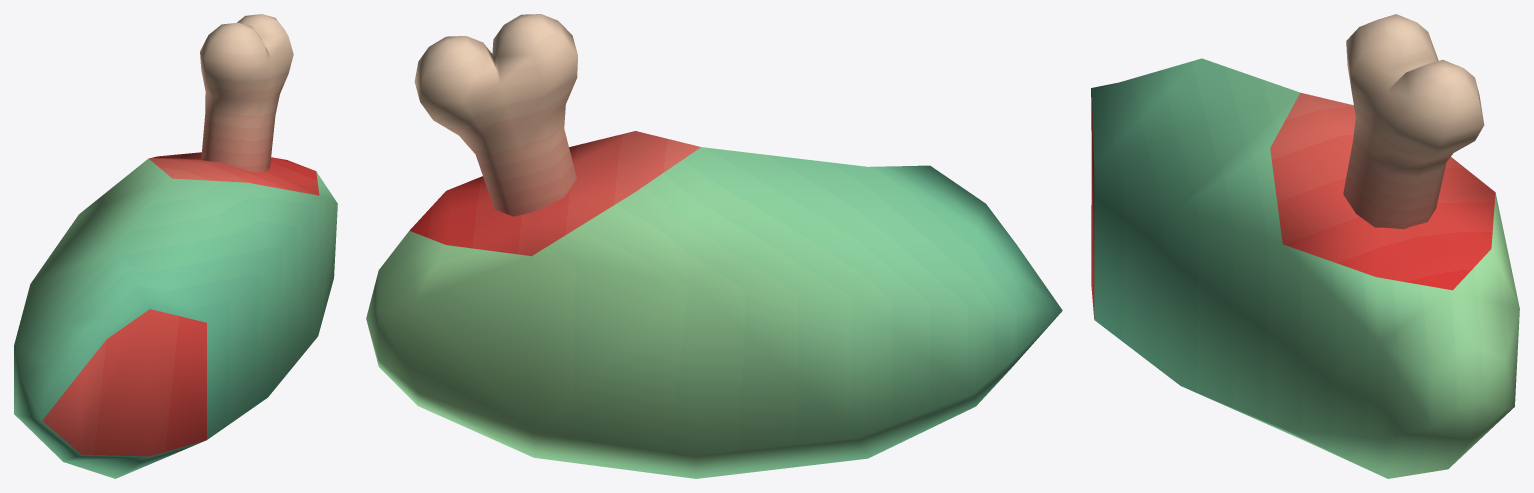
The model's file is FrogLeg_topLeg_Adjusted.fbx.
The picture shows the model from 3 angles, left to right: view 1: azimuth 30°, elevation 25°; view 2: azimuth 150°, elevation 25°; view 3: azimuth 270°, elevation 25°; orthographic projection. The views are drawn at different scales.
Visible parts, largest first — view 1: FrogLeg_topLeg_Adjusted; view 2: FrogLeg_topLeg_Adjusted; view 3: FrogLeg_topLeg_Adjusted.
Boxes of the visible parts, box(x1,y1,x2,y2) form: FrogLeg_topLeg_Adjusted: box(14, 14, 337, 478); FrogLeg_topLeg_Adjusted: box(366, 14, 1062, 478); FrogLeg_topLeg_Adjusted: box(1091, 14, 1519, 478).
Size of the model in its own units: 2.96 by 2.51 by 2.02.
